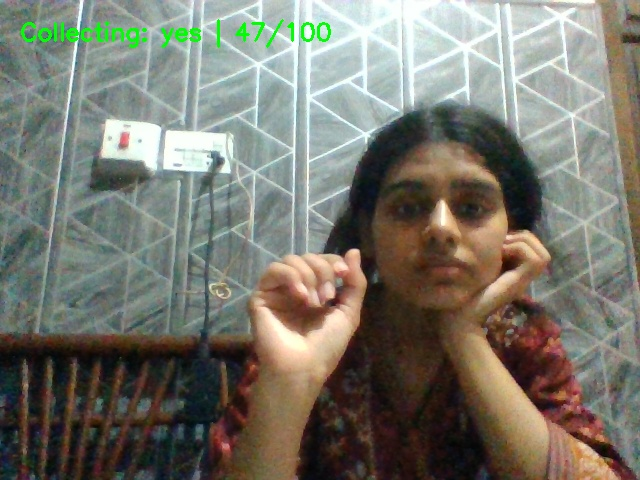yes: (236, 226, 388, 407)
